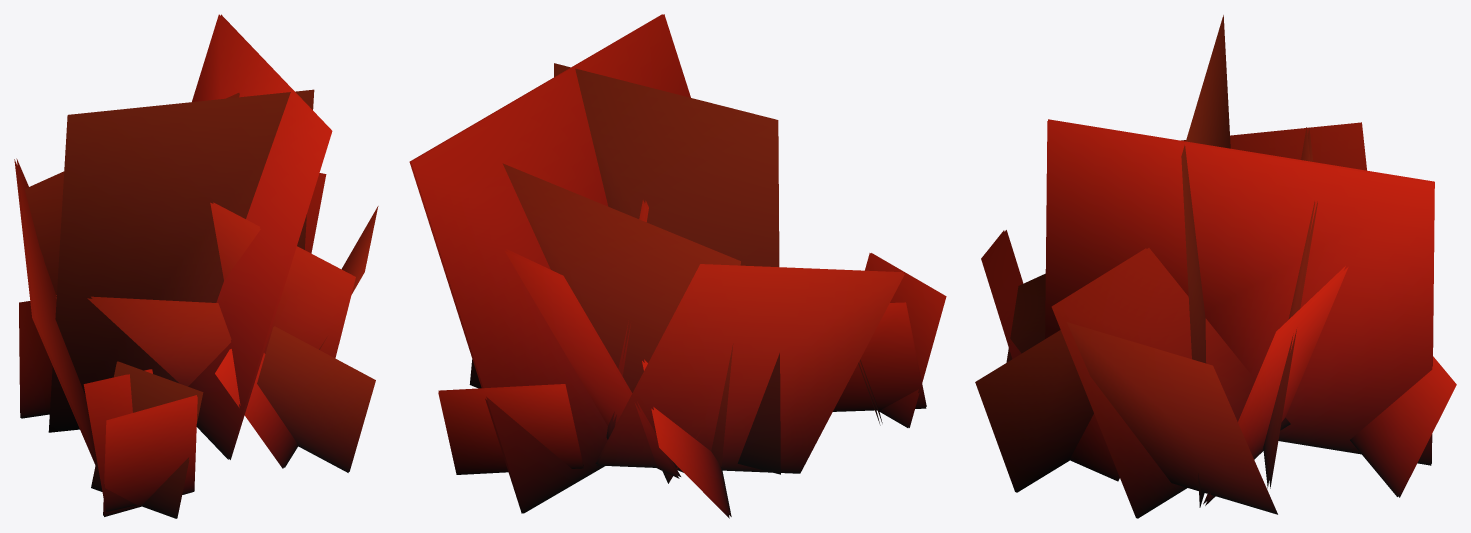
Rendered from TinyW20_high.FBX.
3 renders of one model, left to right at view 1: azimuth 30°, elevation 25°; view 2: azimuth 150°, elevation 25°; view 3: azimuth 270°, elevation 25°, orthographic. The views are drawn at different scales.
Parts seen in each view (by area): view 1: TinyW20_high; view 2: TinyW20_high; view 3: TinyW20_high.
Boxes of the visible parts, x1,y1,x2,y2 form: TinyW20_high: (14,14,378,518); TinyW20_high: (409,14,946,518); TinyW20_high: (975,15,1456,518).
Size of the model in its own units: 0.4821 by 0.4211 by 0.468.
